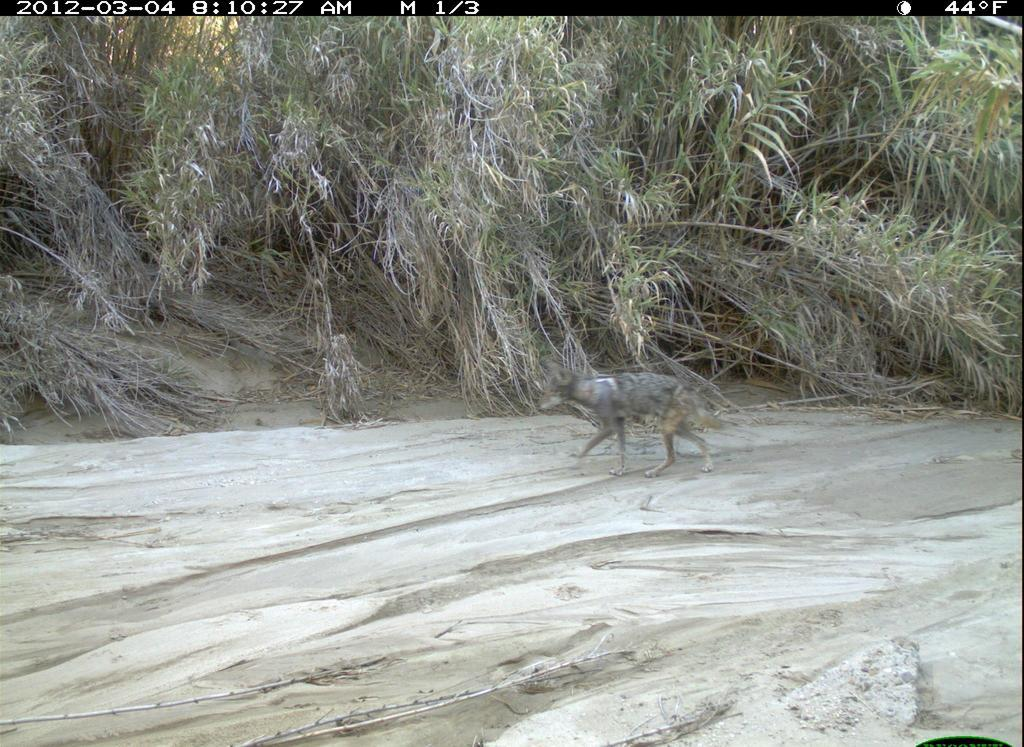coyote: (536, 361, 739, 486)
